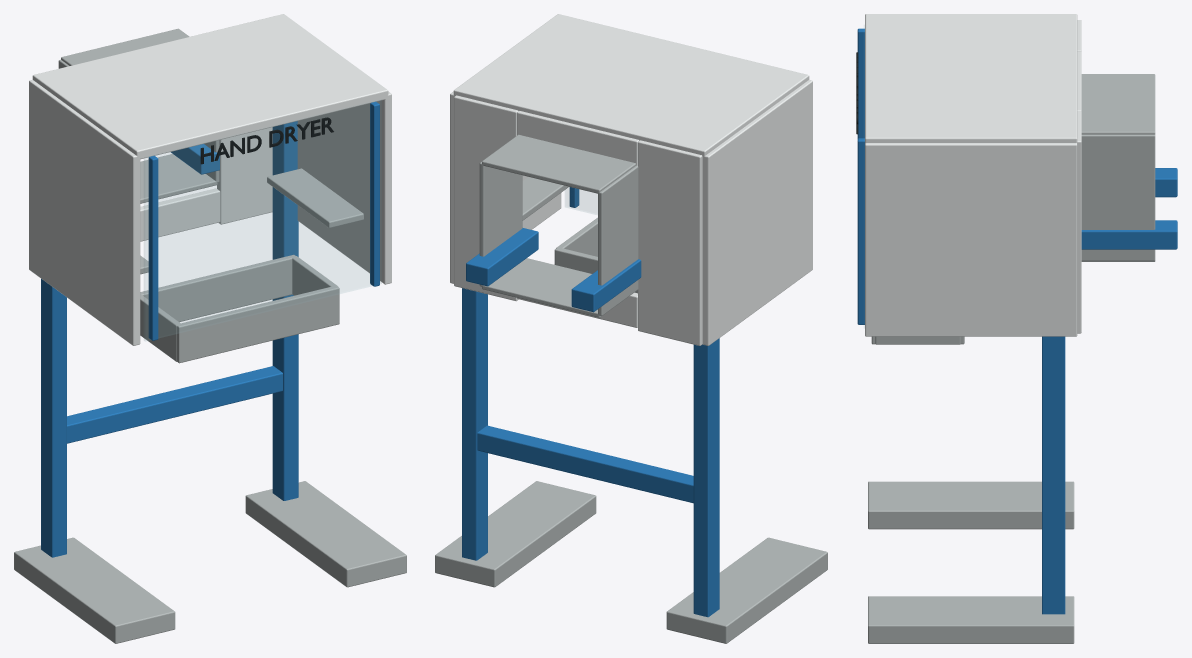
File: air_outlet.glb
3 views of the same model, side by side, from view 1: azimuth 30°, elevation 25°; view 2: azimuth 150°, elevation 25°; view 3: azimuth 270°, elevation 25° (orthographic).
Parts seen in each view (by area): view 1: DRYER_inspection_window, DRYER_roof, DRYER_side_-0.5, DRYER_side_0.5, DRYER_foot_0.46, DRYER_foot_-0.46, DRYER_support_-0.46, DRYER_support_0.46, NOZZLE_lip_-0.325, DRYER_crossbrace, NOZZLE_lip_-0.035, DRYER_rear_side_0.365 (+10 smaller); view 2: DRYER_roof, DRYER_side_-0.5, DRYER_rear_side_-0.365, DRYER_foot_-0.46, DRYER_foot_0.46, DRYER_support_-0.46, DRYER_support_0.46, DRYER_rear_side_0.365, DRYER_crossbrace, DRYER_inlet_horizontal_1.7475, DRYER_inlet_side_-0.235, DRYER_inlet_side_0.235 (+9 smaller); view 3: DRYER_side_0.5, DRYER_roof, DRYER_foot_0.46, DRYER_foot_-0.46, DRYER_inlet_side_0.235, DRYER_support_0.46, DRYER_inlet_horizontal_1.7475, DRYER_fan_mount_0.21, DRYER_window_frame_0.44, DRYER_rear_side_0.365, DRYER_window_frame_-0.44, NOZZLE_side_0.31 (+1 smaller).
Part boxes in pixels (left/top/right/bottom): DRYER_inspection_window: left=144, top=100, right=381, bottom=340; DRYER_roof: left=32, top=14, right=388, bottom=159; DRYER_side_-0.5: left=29, top=79, right=140, bottom=345; DRYER_side_0.5: left=297, top=91, right=391, bottom=284; DRYER_foot_0.46: left=245, top=481, right=406, bottom=587; DRYER_foot_-0.46: left=14, top=537, right=175, bottom=643; DRYER_support_-0.46: left=41, top=279, right=66, bottom=557; DRYER_support_0.46: left=272, top=121, right=298, bottom=500; NOZZLE_lip_-0.325: left=177, top=286, right=339, bottom=363; DRYER_crossbrace: left=46, top=366, right=282, bottom=443; NOZZLE_lip_-0.035: left=140, top=254, right=295, bottom=322; DRYER_rear_side_0.365: left=217, top=127, right=272, bottom=224; DRYER_roof: left=453, top=14, right=809, bottom=158; DRYER_side_-0.5: left=702, top=79, right=812, bottom=345; DRYER_rear_side_-0.365: left=638, top=140, right=702, bottom=345; DRYER_foot_-0.46: left=666, top=537, right=827, bottom=643; DRYER_foot_0.46: left=435, top=481, right=596, bottom=587; DRYER_support_-0.46: left=693, top=338, right=719, bottom=617; DRYER_support_0.46: left=462, top=288, right=487, bottom=560; DRYER_rear_side_0.365: left=454, top=95, right=518, bottom=301; DRYER_crossbrace: left=477, top=425, right=718, bottom=505; DRYER_inlet_horizontal_1.7475: left=482, top=134, right=635, bottom=193; DRYER_inlet_side_-0.235: left=598, top=165, right=638, bottom=315; DRYER_inlet_side_0.235: left=479, top=162, right=522, bottom=286; DRYER_side_0.5: left=865, top=143, right=1077, bottom=336; DRYER_roof: left=865, top=14, right=1077, bottom=142; DRYER_foot_0.46: left=868, top=596, right=1074, bottom=643; DRYER_foot_-0.46: left=868, top=481, right=1074, bottom=529; DRYER_inlet_side_0.235: left=1081, top=134, right=1155, bottom=260; DRYER_support_0.46: left=1042, top=336, right=1065, bottom=614; DRYER_inlet_horizontal_1.7475: left=1081, top=74, right=1155, bottom=134; DRYER_fan_mount_0.21: left=1081, top=220, right=1177, bottom=249; DRYER_window_frame_0.44: left=857, top=138, right=864, bottom=324; DRYER_rear_side_0.365: left=1077, top=111, right=1081, bottom=333; DRYER_window_frame_-0.44: left=857, top=28, right=864, bottom=138; NOZZLE_side_0.31: left=875, top=336, right=960, bottom=344.
Size of the model in its own units: 1.16 by 1.86 by 1.09.
